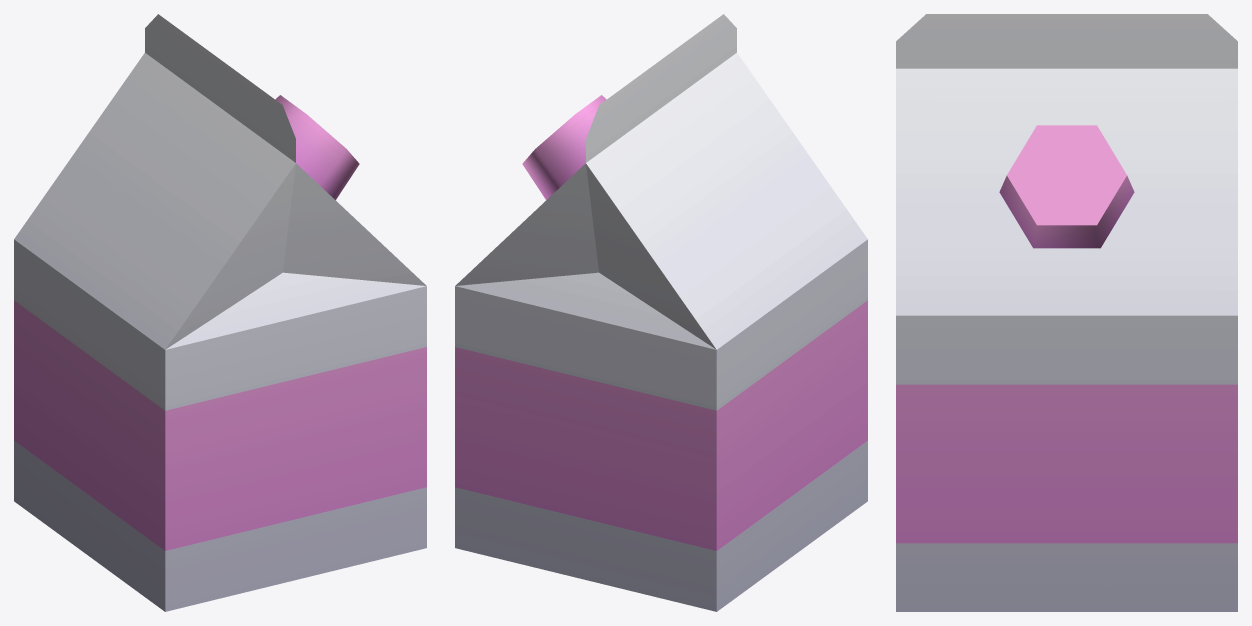
File: carton-small.glb
3 renders of one model, left to right at view 1: azimuth 30°, elevation 25°; view 2: azimuth 150°, elevation 25°; view 3: azimuth 270°, elevation 25°, orthographic. The views are drawn at different scales.
Parts seen in each view (by area): view 1: carton-small; view 2: carton-small; view 3: carton-small.
Part boxes in pixels (bbox=[...]): carton-small: bbox=[14, 14, 426, 611]; carton-small: bbox=[455, 14, 867, 611]; carton-small: bbox=[896, 14, 1237, 611].
Bounding box in the file's own units: 0.23 × 0.3905 × 0.23.
Materials: 1 (1 with a texture image).
